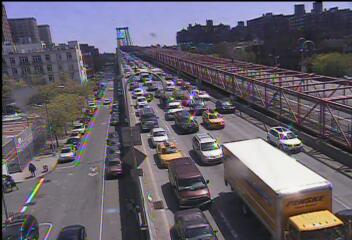neg: (124, 69, 153, 107), (240, 147, 263, 177), (73, 108, 95, 137), (240, 103, 258, 127), (160, 126, 177, 149), (201, 107, 216, 127), (107, 26, 122, 46), (229, 28, 244, 47), (268, 185, 282, 203), (144, 29, 158, 47), (146, 195, 156, 208), (95, 54, 105, 67), (186, 33, 195, 46), (91, 206, 100, 217), (139, 25, 145, 34)
pos: (23, 159, 38, 179), (1, 172, 15, 192)
